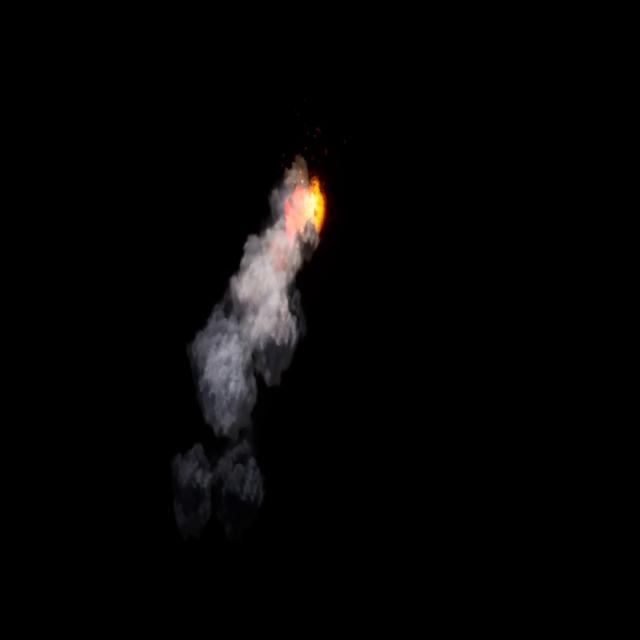fire: (284, 174, 328, 241)
smoke: (191, 154, 316, 433)
